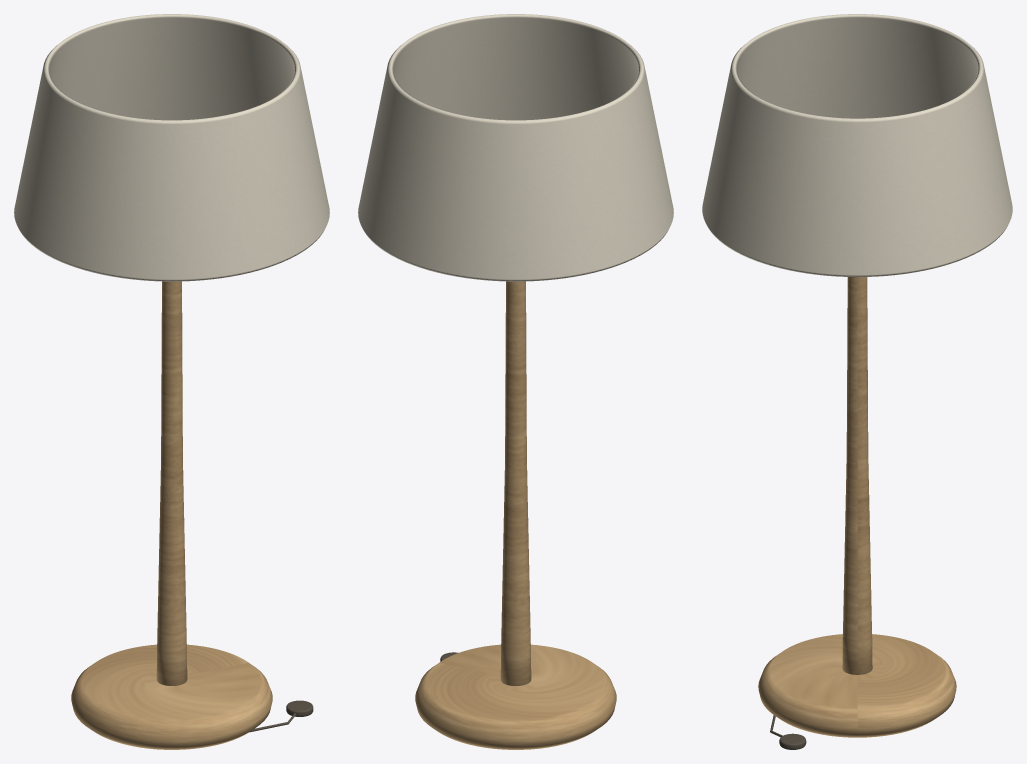
File: home_floor_lamp.glb
The picture shows the model from 3 angles, left to right: view 1: azimuth 30°, elevation 25°; view 2: azimuth 150°, elevation 25°; view 3: azimuth 270°, elevation 25°; orthographic projection.
Parts seen in each view (by area): view 1: Linen_Cream_detail_group, Oak_detail_group, DarkMetal_detail_group; view 2: Linen_Cream_detail_group, Oak_detail_group; view 3: Linen_Cream_detail_group, Oak_detail_group.
Part boxes in pixels (x1,y1,x2,y2): Linen_Cream_detail_group: (14,14,329,281); Oak_detail_group: (71,281,272,749); DarkMetal_detail_group: (249,700,313,732); Linen_Cream_detail_group: (358,14,673,281); Oak_detail_group: (415,281,616,749); Linen_Cream_detail_group: (702,14,1012,276); Oak_detail_group: (758,277,956,737).
Bounding box in the file's own units: 0.72 × 1.62 × 0.72.
Materials: 6 (3 with a texture image).
